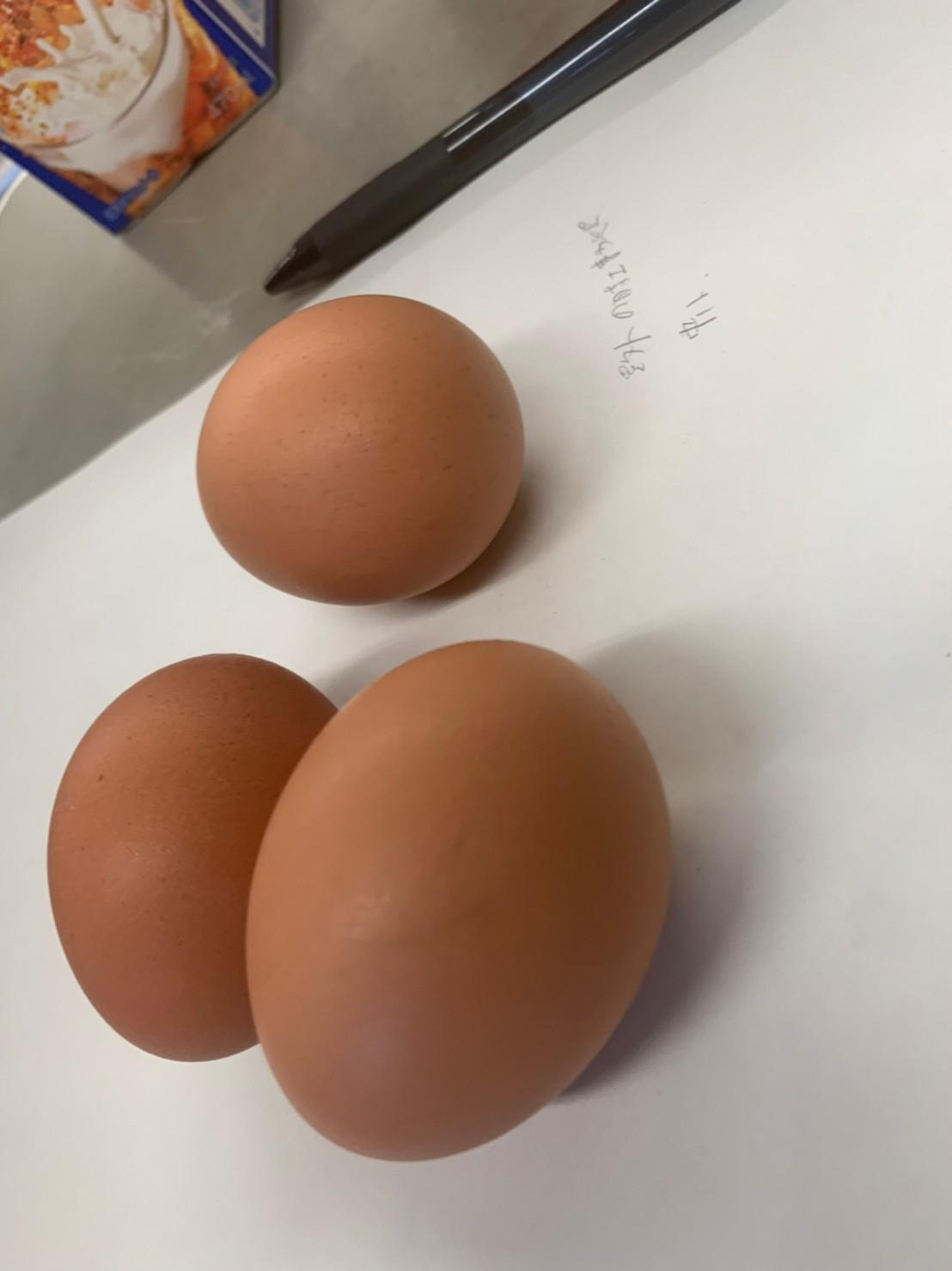egg: (260, 640, 685, 1163), (36, 647, 359, 1076), (186, 292, 530, 607)
